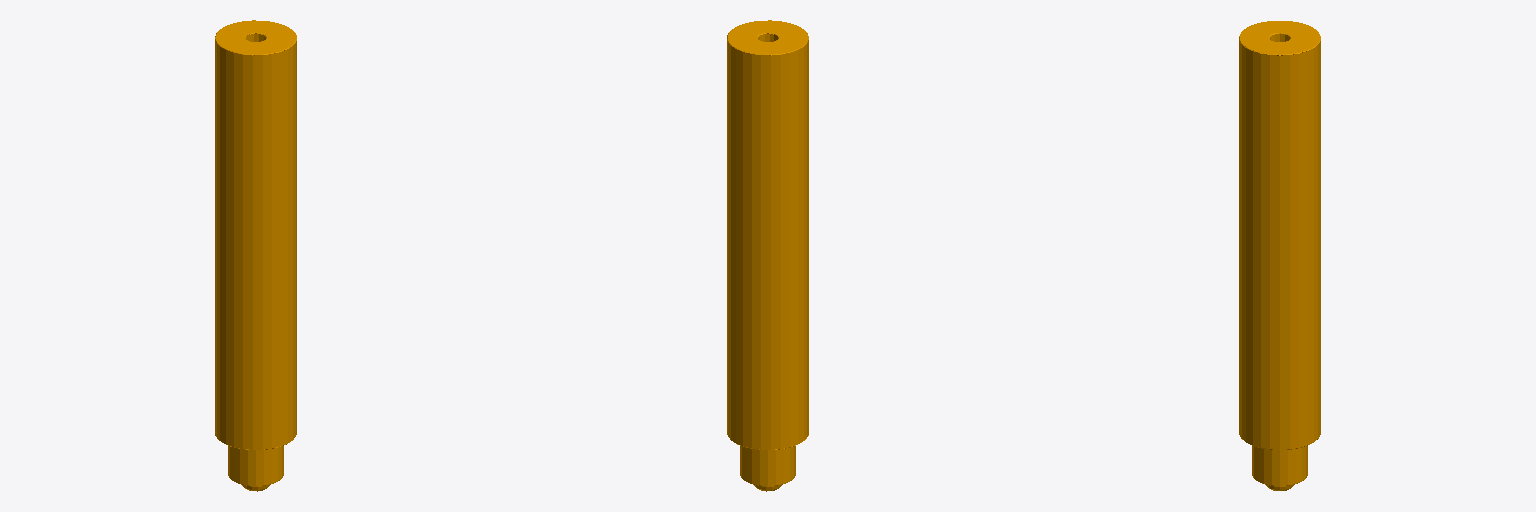
URDF robot description (00597_plug):
<?xml version="1.0"?>
<robot name="00597_plug">
	<link name="00597_plug">
		<visual>
			<geometry>
				<mesh filename="../mesh/00597/asset_plug.obj"/>
			</geometry>
		</visual>
		<collision>
			<geometry>
				<mesh filename="../mesh/00597/asset_plug.obj"/>
			</geometry>
			<sdf resolution="256"/>
		</collision>
	</link>
</robot>

--- What the picture shows (computed from the rendered views, not written in the file) ---
3 views of the same robot in one strip: view 1: azimuth 30°, elevation 25°; view 2: azimuth 150°, elevation 25°; view 3: azimuth 270°, elevation 25° (orthographic).
Robot: 00597_plug — 1 links, 0 joints (none); root link 00597_plug; default pose: every joint at zero.
Links seen in each view (by area): view 1: 00597_plug; view 2: 00597_plug; view 3: 00597_plug.
Link boxes in pixels (<box>): 00597_plug: <box>215,20,296,491</box>; 00597_plug: <box>727,20,808,491</box>; 00597_plug: <box>1239,21,1320,490</box>.
Bounding box of the posed robot: 0.0083 × 0.0082 × 0.05 m (x, y, z).
Meshes: 1 distinct files referenced, 1 mesh visuals loaded (1 OBJ).
